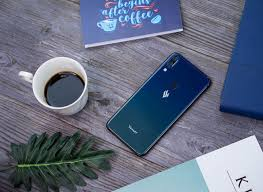vsmart: (105, 51, 217, 159)
